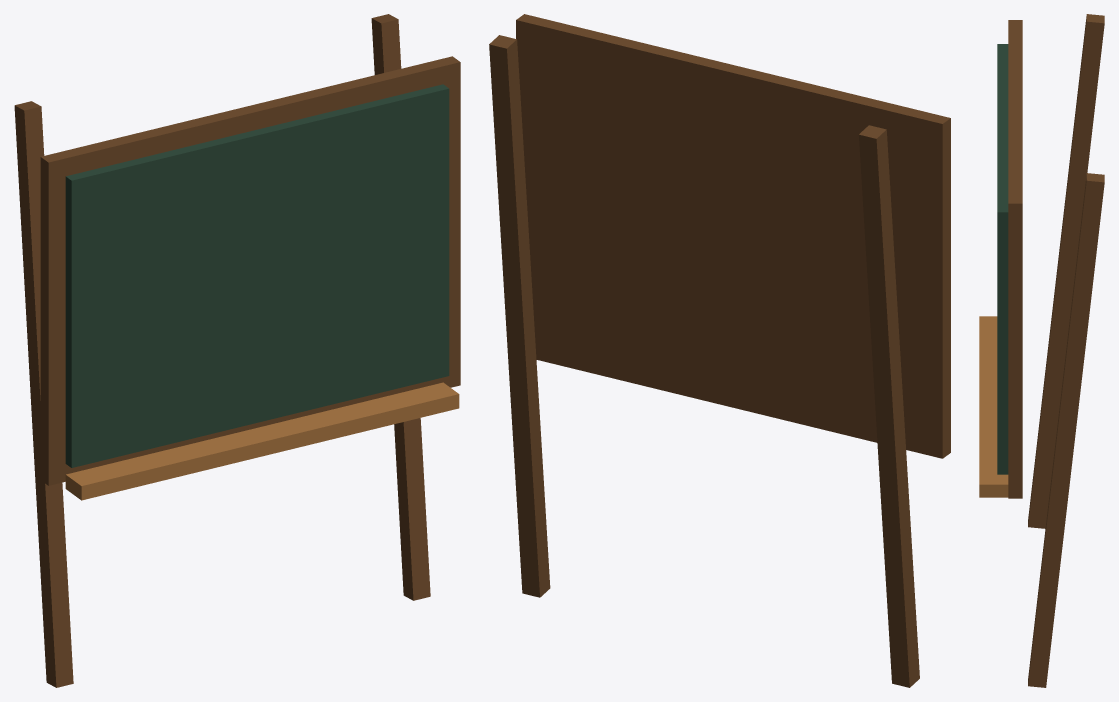
The model's file is chalkboard.glb.
The picture shows the model from 3 angles, left to right: view 1: azimuth 30°, elevation 25°; view 2: azimuth 150°, elevation 25°; view 3: azimuth 270°, elevation 25°; orthographic projection. The views are drawn at different scales.
Parts seen in each view (by area): view 1: chalkboard; view 2: chalkboard; view 3: chalkboard.
Part boxes in pixels (x1=…): chalkboard: x1=14, y1=14, x2=460, y2=687; chalkboard: x1=489, y1=14, x2=950, y2=687; chalkboard: x1=979, y1=14, x2=1104, y2=687.
Bounding box in the file's own units: 1.2 × 1.55 × 0.3469.
